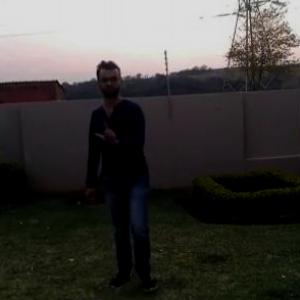land_hand: (93, 111, 125, 149)
